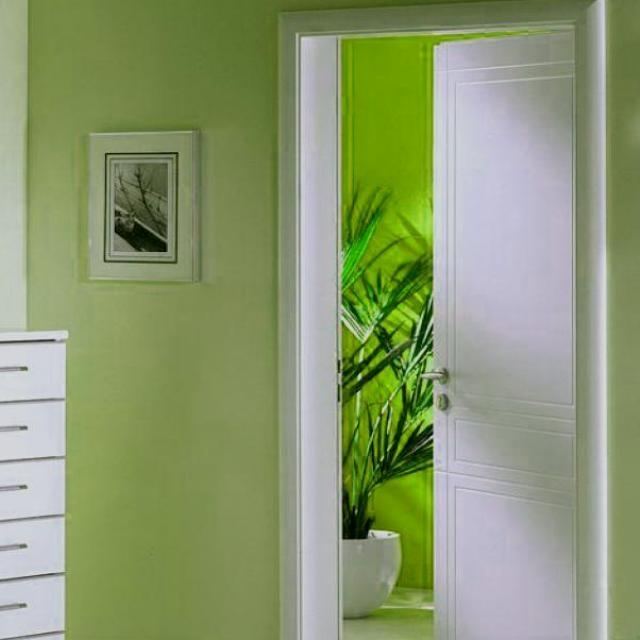door: (428, 27, 578, 639)
